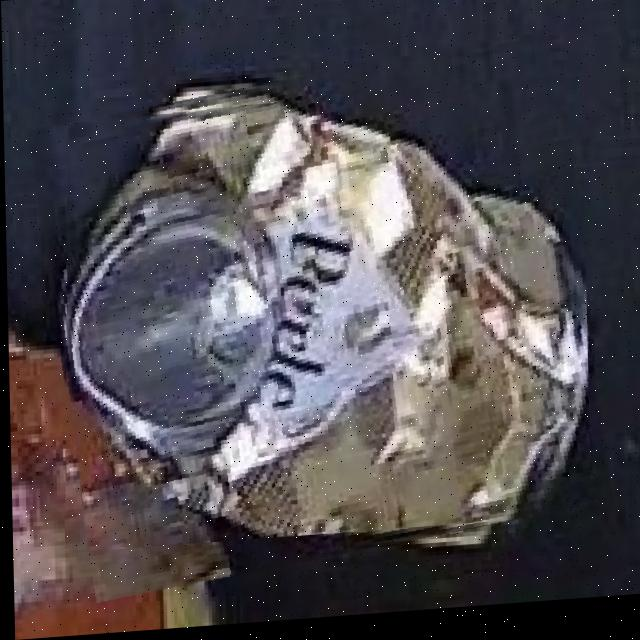litter: (61, 110, 585, 541)
